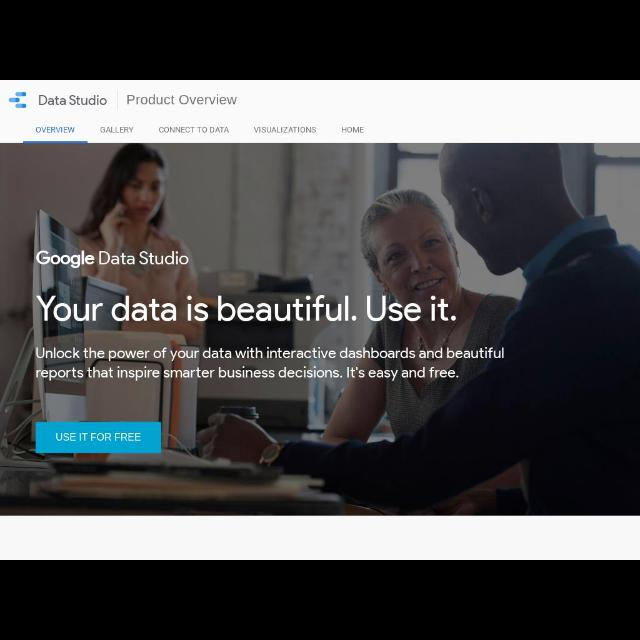backgroundimage: (1, 143, 639, 514)
image: (8, 90, 28, 110)
multitab: (25, 121, 378, 142)
text: (35, 346, 505, 378), (37, 294, 455, 324), (38, 249, 188, 267), (128, 94, 238, 108), (38, 94, 108, 106), (56, 432, 140, 442), (158, 126, 232, 134), (253, 126, 317, 134), (36, 125, 74, 135), (340, 125, 366, 135), (100, 126, 134, 132)
textbutton: (37, 422, 159, 452)
